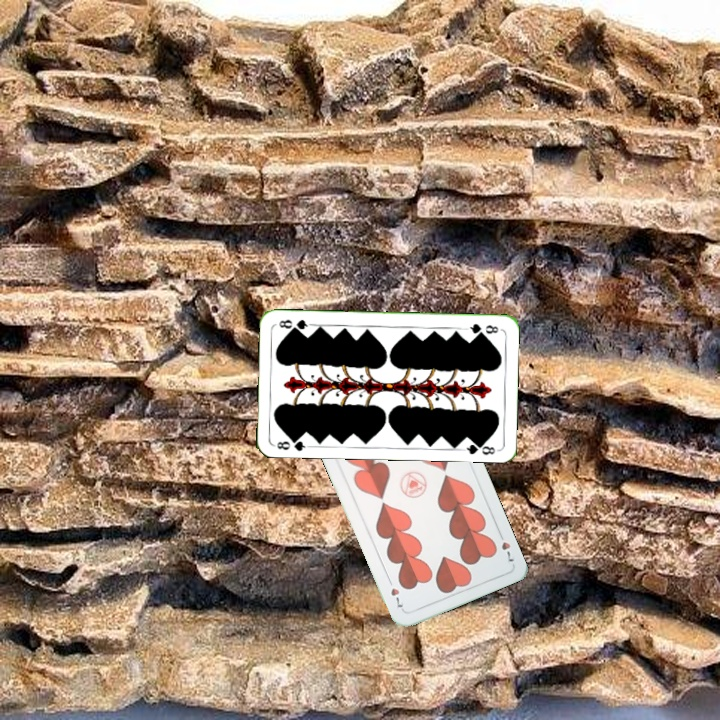G8: (271, 433, 312, 453), (462, 319, 501, 337)
H7: (494, 528, 517, 564)
